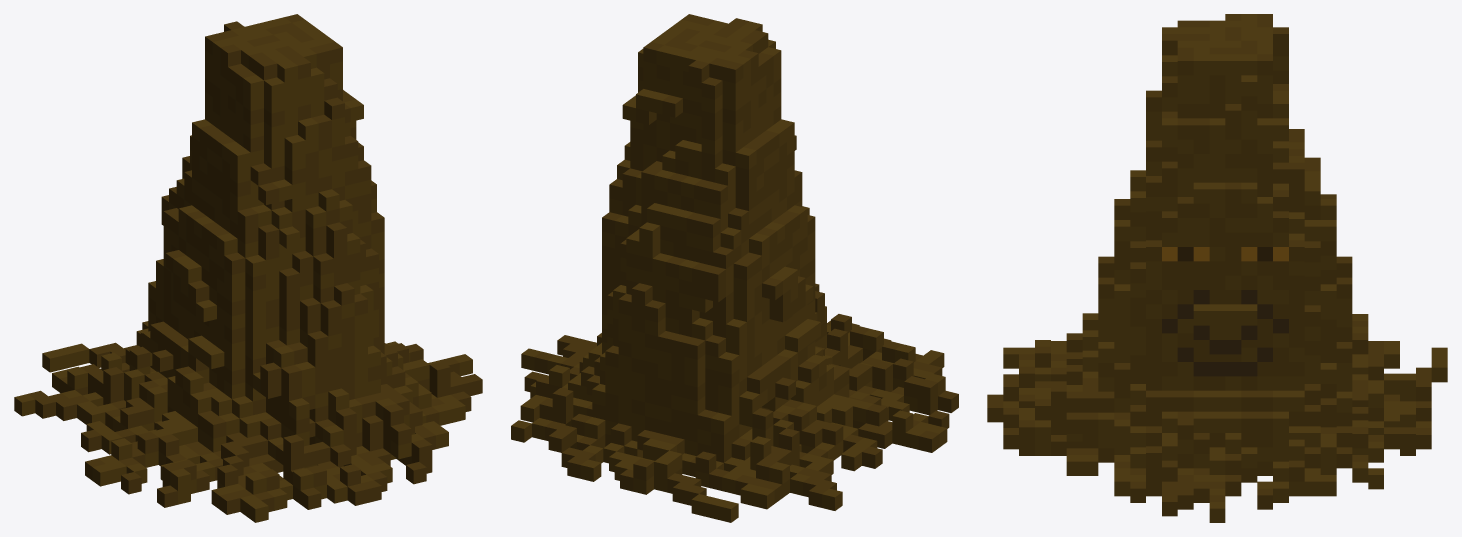
The model's file is start_end-26.obj.
The picture shows the model from 3 angles, left to right: view 1: azimuth 30°, elevation 25°; view 2: azimuth 150°, elevation 25°; view 3: azimuth 270°, elevation 25°; orthographic projection. The views are drawn at different scales.
Bounding box in the file's own units: 3 × 2.7 × 2.9.
Materials: 1 (1 with a texture image).
